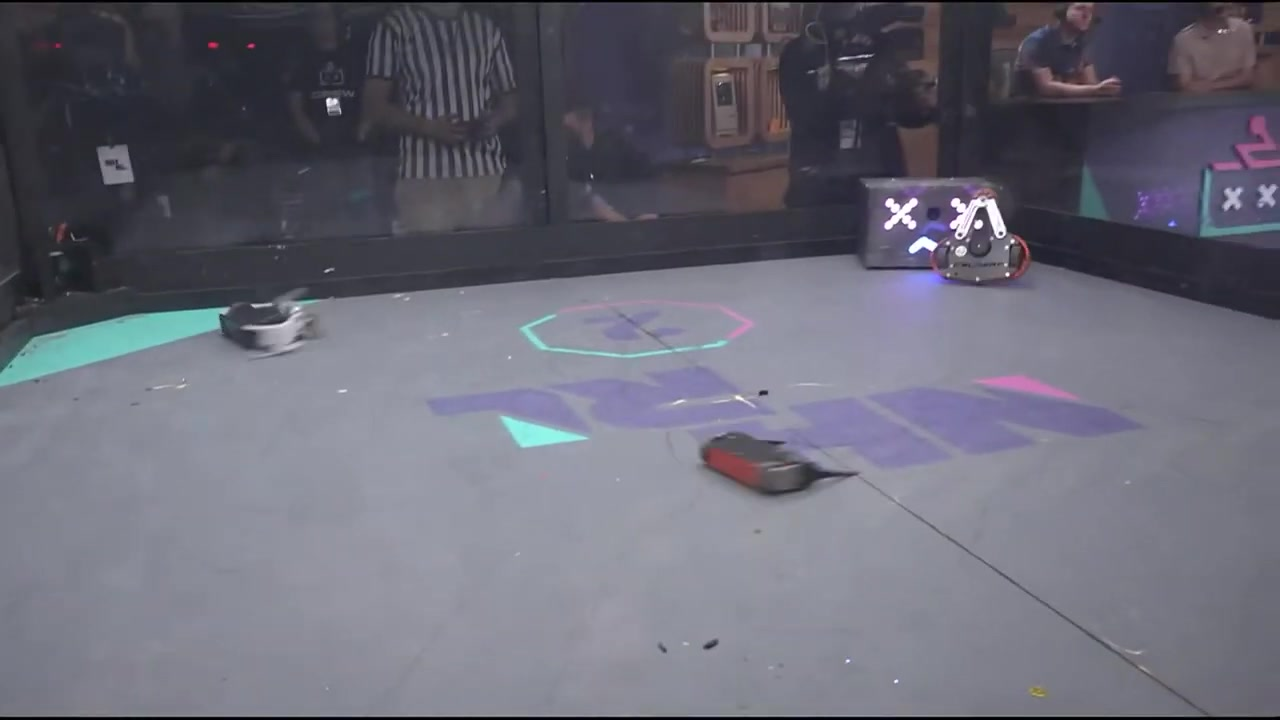combatbot: (931, 182, 1031, 287), (218, 296, 326, 355)
housebot: (857, 178, 1019, 276)
minibot: (700, 431, 817, 493)
